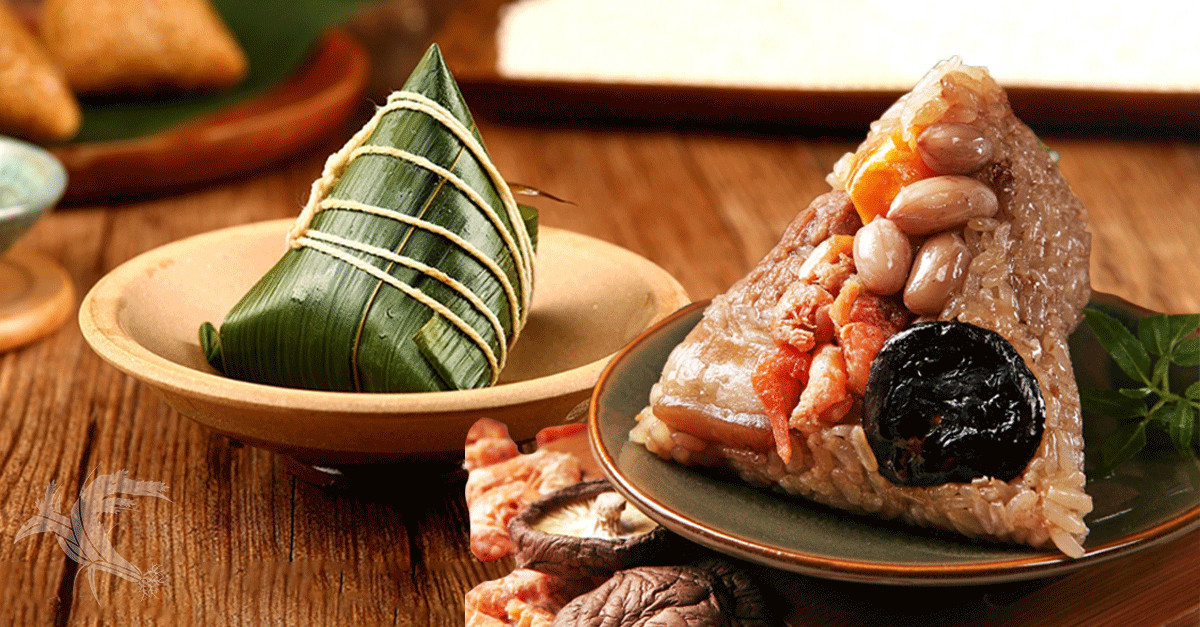zongzi: (630, 59, 1091, 556), (201, 46, 535, 392)
